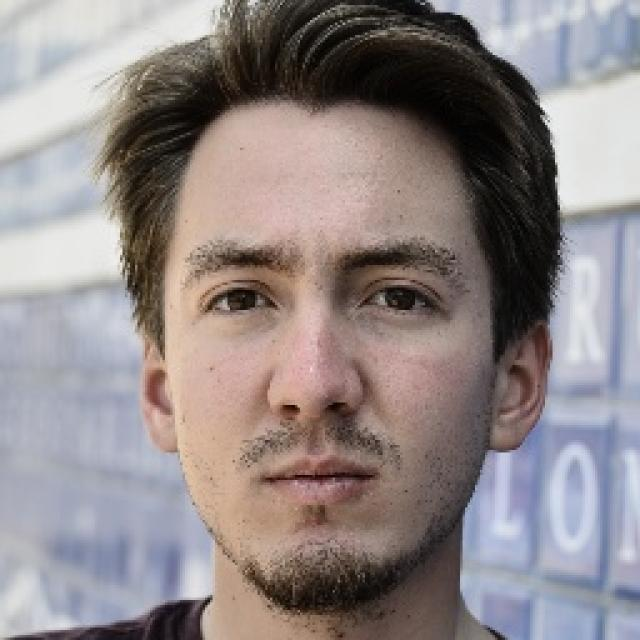earlobe: (486, 408, 526, 452), (146, 406, 180, 454)
eye: (361, 284, 436, 312), (208, 288, 276, 316)
nose: (266, 394, 366, 460)
wholeear: (487, 318, 554, 452), (140, 332, 179, 454)
